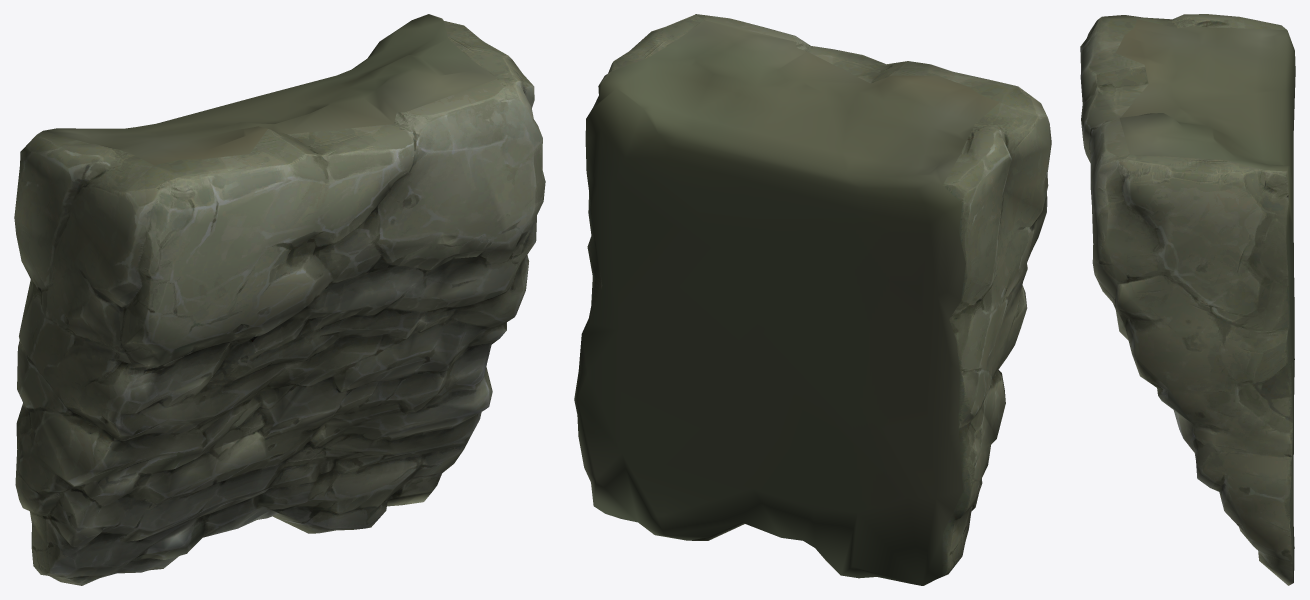
File: Dn_HL_Stairs_Rock_A.fbx
3 views of the same model, side by side, from view 1: azimuth 30°, elevation 25°; view 2: azimuth 150°, elevation 25°; view 3: azimuth 270°, elevation 25° (orthographic). The views are drawn at different scales.
Visible parts, largest first — view 1: Dn_HL_Stairs_Rock_A; view 2: Dn_HL_Stairs_Rock_A; view 3: Dn_HL_Stairs_Rock_A.
Part boxes in pixels (bbox=[...]): Dn_HL_Stairs_Rock_A: bbox=[14, 14, 545, 585]; Dn_HL_Stairs_Rock_A: bbox=[574, 14, 1051, 585]; Dn_HL_Stairs_Rock_A: bbox=[1080, 14, 1295, 585].
Size of the model in its own units: 845 by 920 by 412.
1 material, 1 textured.
